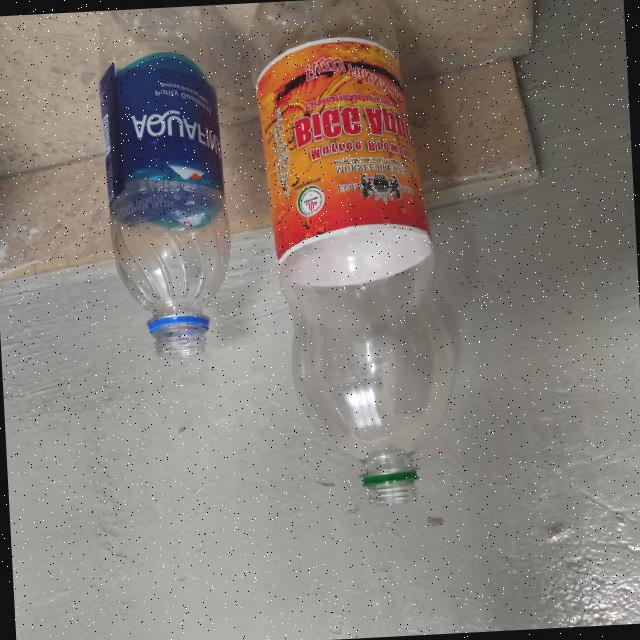bottle: (258, 0, 463, 524), (96, 4, 252, 397)
label: (266, 34, 428, 275), (104, 42, 234, 217)
